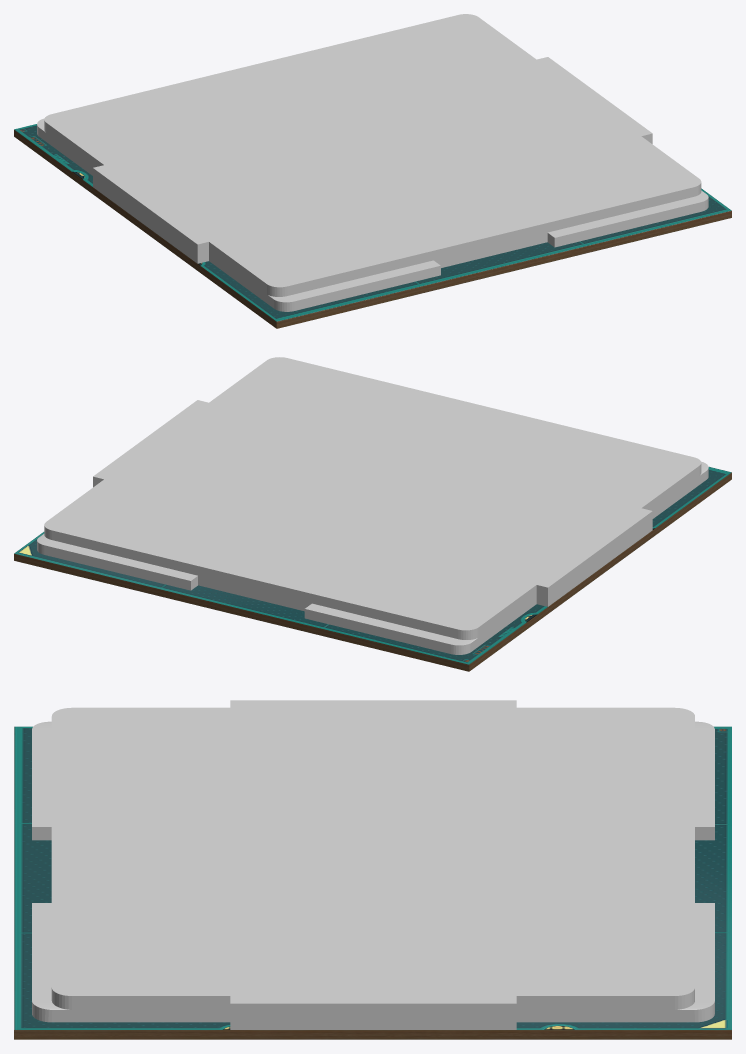
Rendered from amd-processor-003.fbx.
3 renders of one model, top to bottom at view 1: azimuth 30°, elevation 25°; view 2: azimuth 150°, elevation 25°; view 3: azimuth 270°, elevation 25°, orthographic. The views are drawn at different scales.
Visible parts, largest first — view 1: top, silicon; view 2: top, silicon; view 3: top, silicon.
Boxes of the visible parts, x1,y1,x2,y2 form: top: [37, 14, 708, 311]; silicon: [14, 124, 731, 328]; top: [37, 357, 708, 654]; silicon: [14, 466, 731, 671]; top: [32, 700, 714, 1029]; silicon: [14, 726, 731, 1039].
Size of the model in its own units: 2000 by 111 by 2000.
